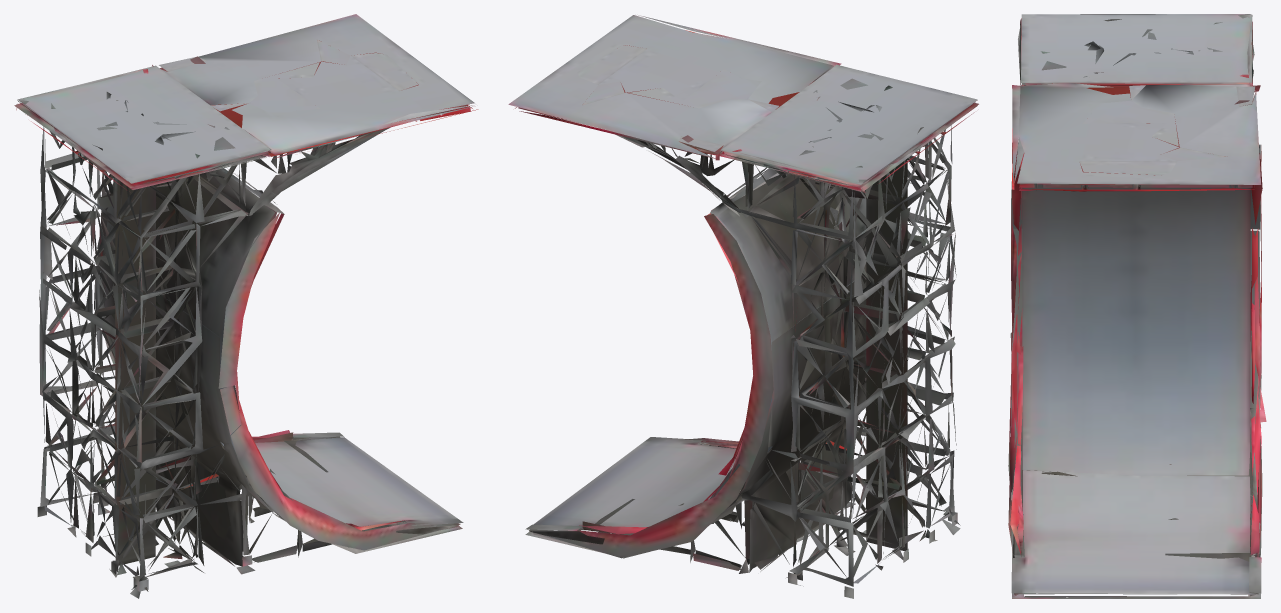
File: ramp_landmark.glb
The picture shows the model from 3 angles, left to right: view 1: azimuth 30°, elevation 25°; view 2: azimuth 150°, elevation 25°; view 3: azimuth 270°, elevation 25°; orthographic projection.
Parts seen in each view (by area): view 1: ramp; view 2: ramp; view 3: ramp.
Boxes of the visible parts, <box> form: ramp: <box>14,14,478,598</box>; ramp: <box>508,15,978,598</box>; ramp: <box>1008,14,1266,598</box>.
Size of the model in its own units: 0.728 by 0.8636 by 0.4671.
1 material, 1 textured.
